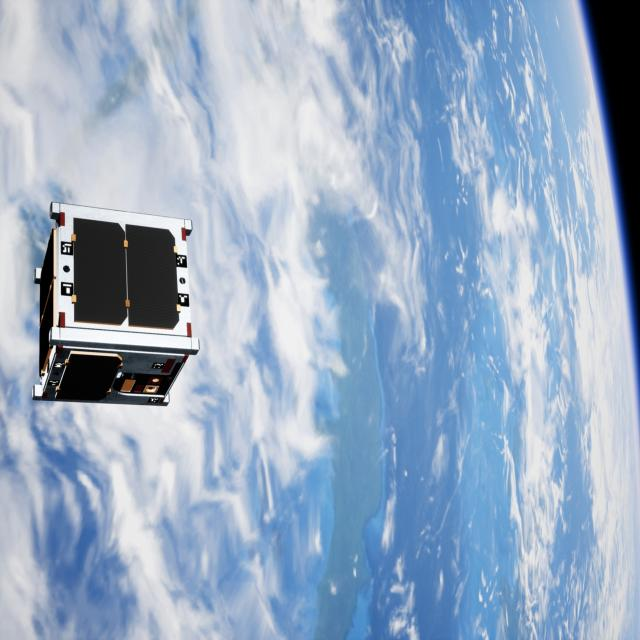satellite: (23, 198, 208, 402)
